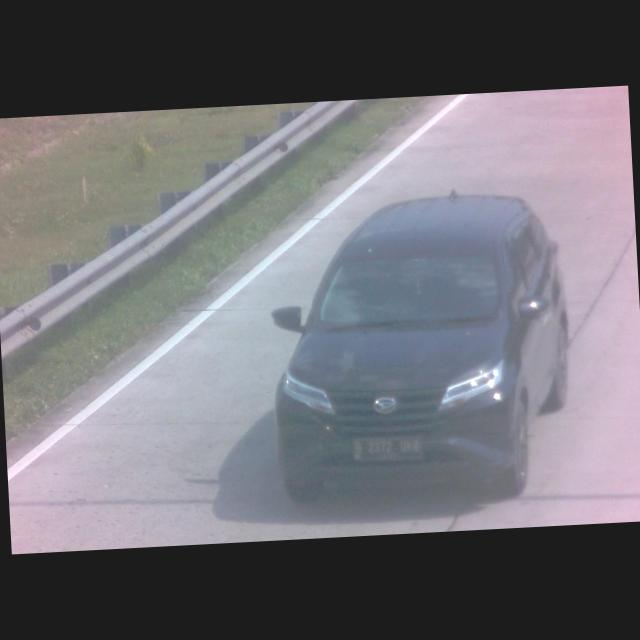plate: (354, 433, 426, 464)
